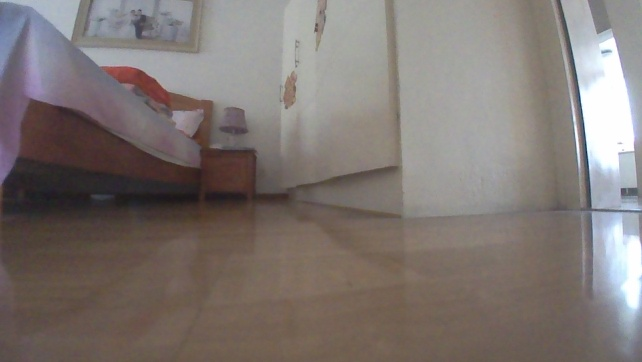bed: (0, 0, 215, 205)
cabinet: (196, 146, 259, 202)
